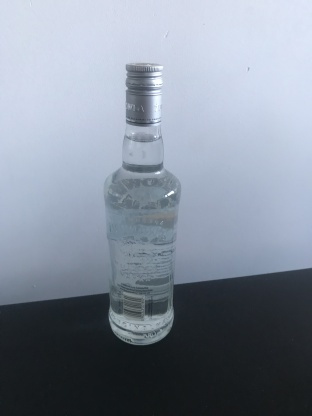nakretka: (124, 60, 164, 128)
